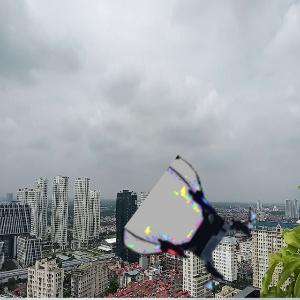drone: (138, 172, 255, 289)
